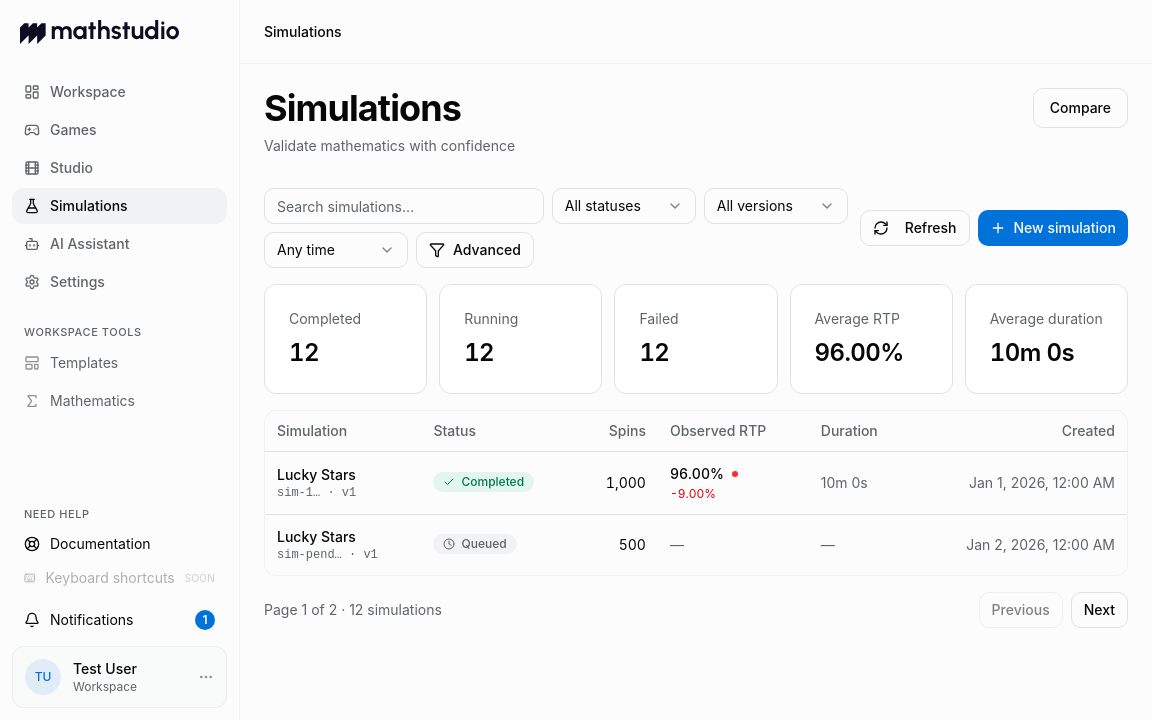
simulations list page › navigates to next page
Expected: the text "Page 1 of 2 · 12 simulations" is shown, [264,600,442,620]
Click the button "Next": (1099, 610) [1071,592,1128,628]
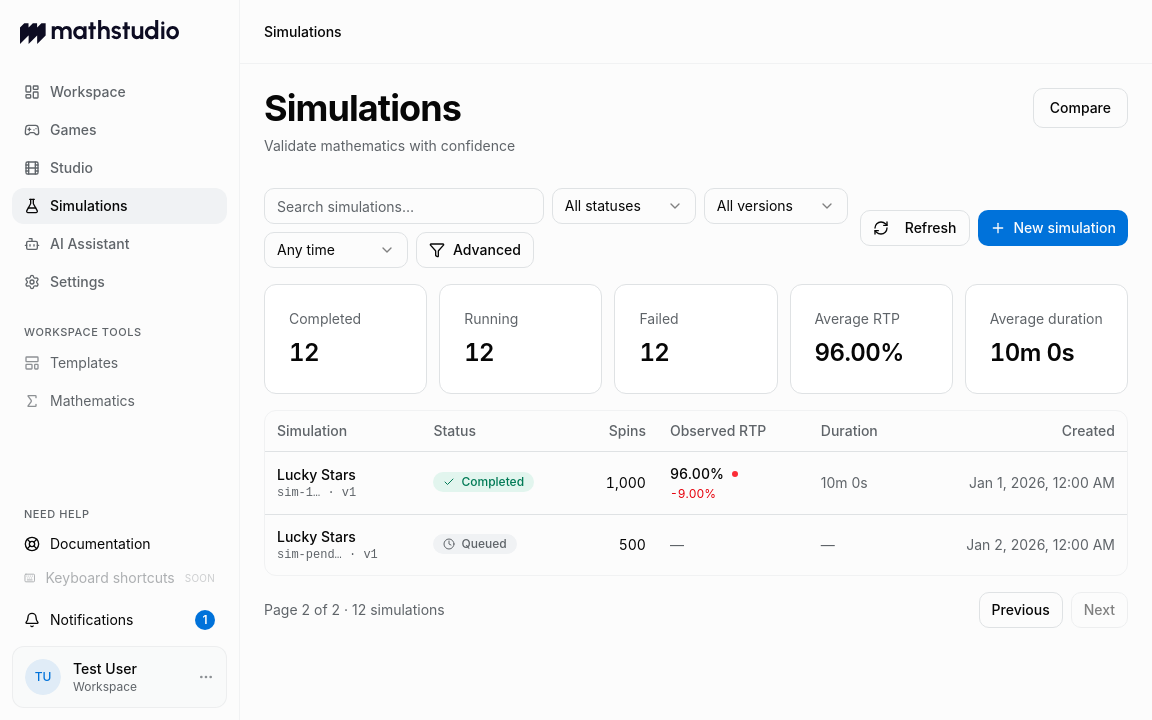
Now the text "Page 2 of 2 · 12 simulations" is shown, box [264,600,445,620]
